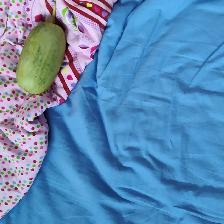gua: (24, 20, 66, 93)
